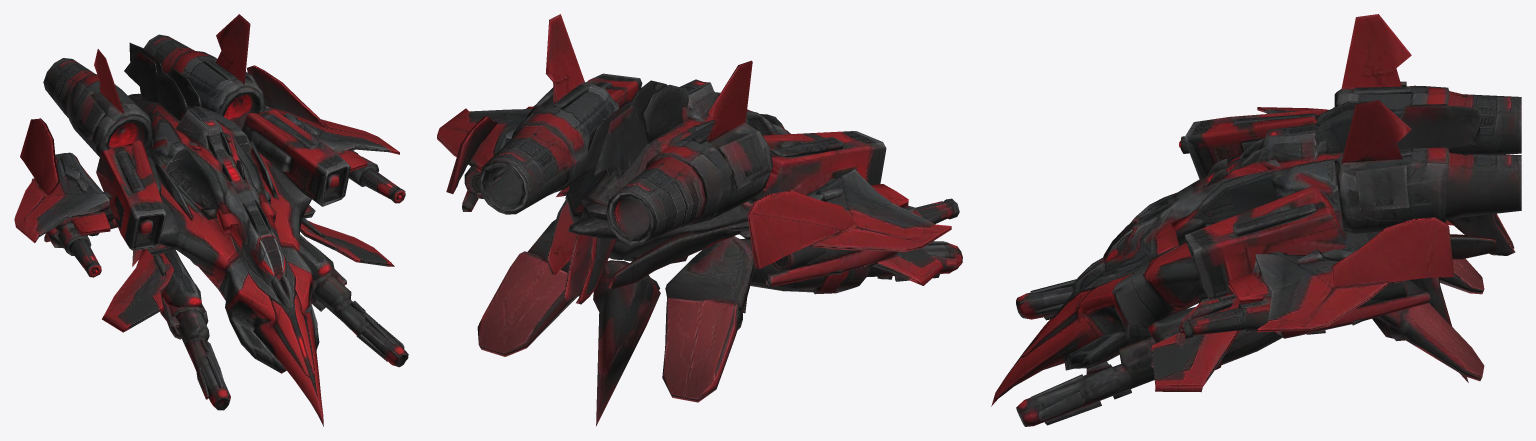
The model's file is ballista.glb.
3 renders of one model, left to right at view 1: azimuth 30°, elevation 25°; view 2: azimuth 150°, elevation 25°; view 3: azimuth 270°, elevation 25°, orthographic. The views are drawn at different scales.
Parts seen in each view (by area): view 1: mesh_node; view 2: mesh_node; view 3: mesh_node.
Part boxes in pixels (left/top/right/bottom): mesh_node: left=14, top=14, right=408, bottom=426; mesh_node: left=437, top=14, right=962, bottom=426; mesh_node: left=991, top=14, right=1521, bottom=426.
Size of the model in its own units: 0.9883 by 0.7285 by 1.
1 material, 1 textured.
